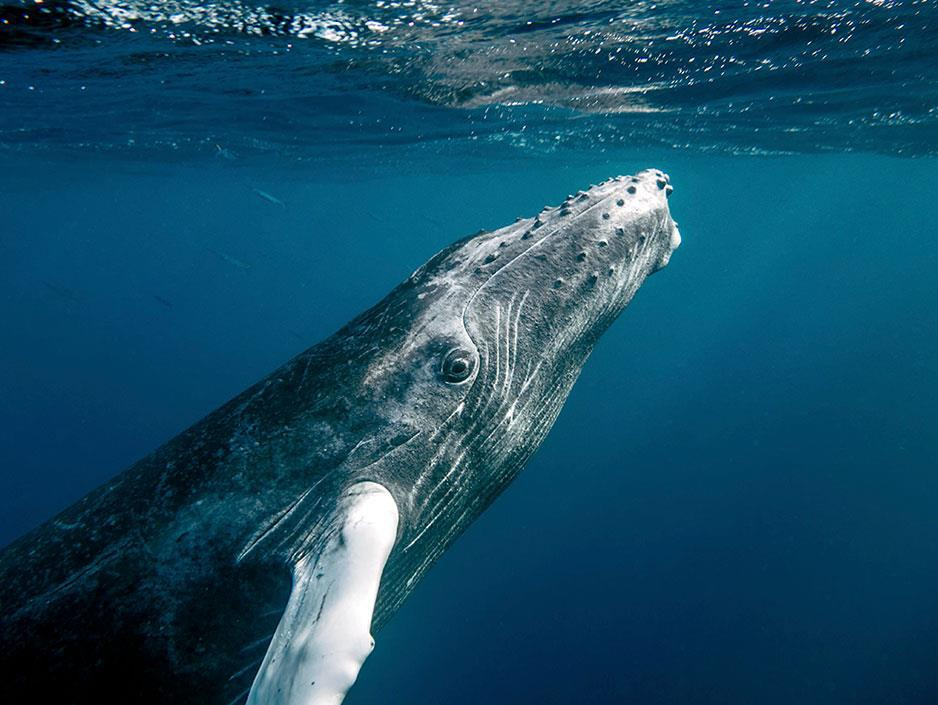humpback: (6, 174, 680, 699)
